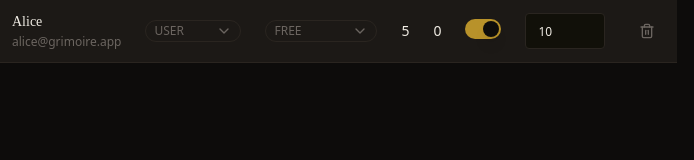
Test: UserRow — role Select rendering › renders all available role options when the listbox is opened
Click the dropdown labelled "USER" at (194,31), box [146, 20, 242, 42]
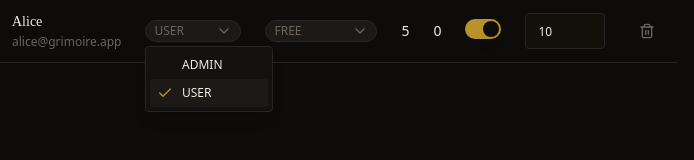
expect the option "USER" is shown: met, box [150, 79, 268, 107]
expect the option "ADMIN" is shown: met, box [182, 56, 222, 73]
